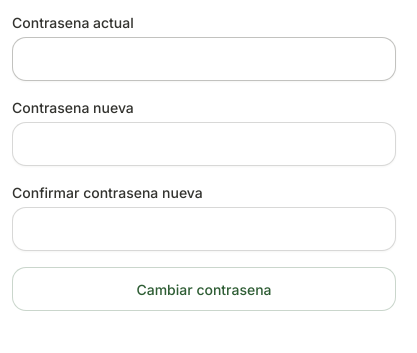
Test: ChangePasswordForm › muestra error cuando las contrasenas nuevas no coinciden
In the password field labelled "Contrasena actual": (204, 59) top-left (12, 37), bottom-right (396, 81), type "ClaveActual@1"
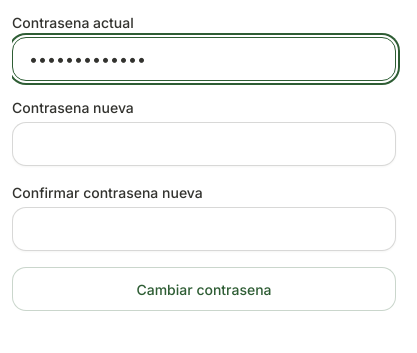
In the password field labelled "Contrasena nueva": (204, 144) top-left (12, 122), bottom-right (396, 166), type "ClaveNueva@123"
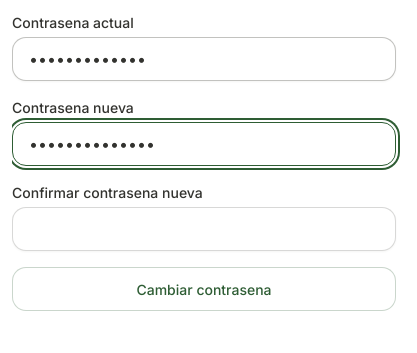
In the password field labelled "Confirmar contrasena nueva": (204, 229) top-left (12, 207), bottom-right (396, 251), type "OtraClave@456"
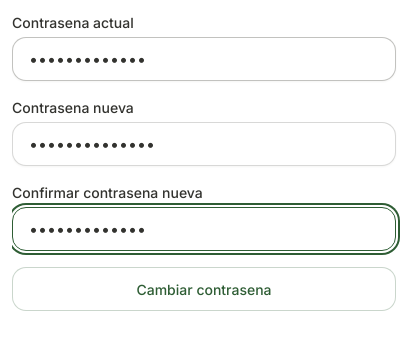
Click the button "Cambiar contrasena": (204, 289) top-left (12, 267), bottom-right (396, 311)
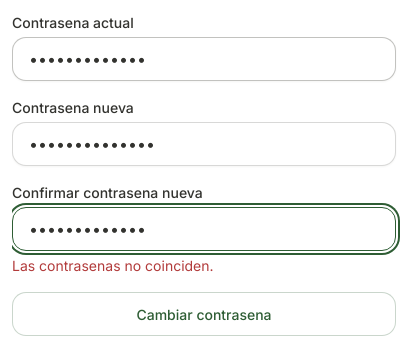
Expected: the text "Las contrasenas no coinciden." is shown, top-left (12, 257), bottom-right (214, 274)
